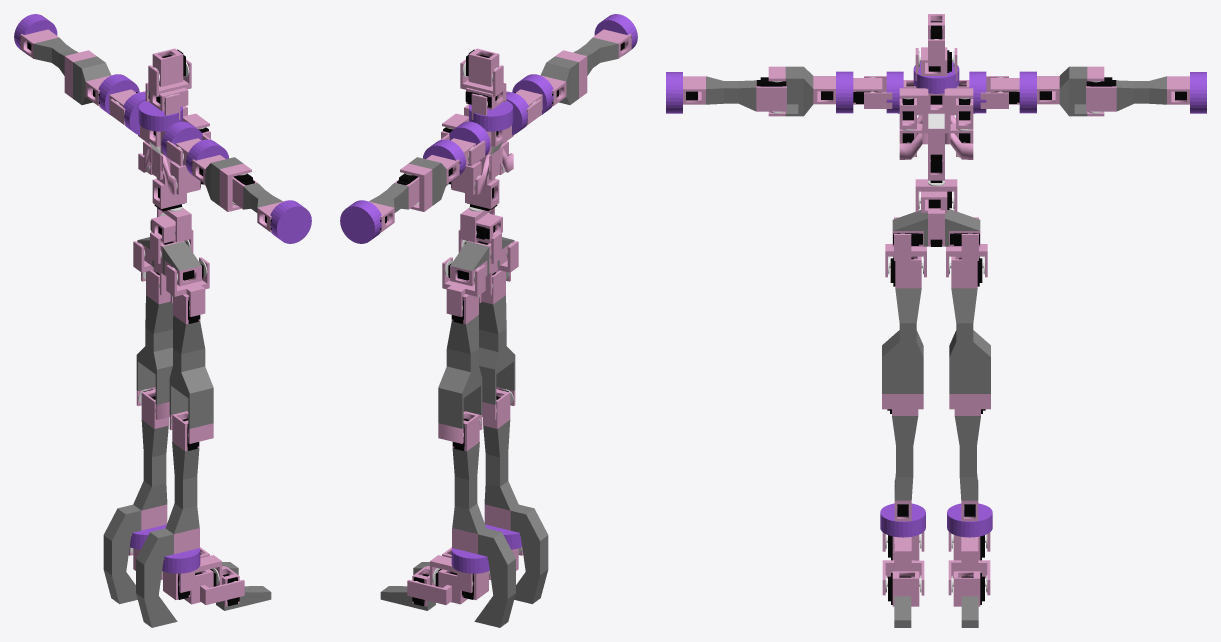
Rendered from Asis3D_3_Vbody.fbx.
3 views of the same model, side by side, from view 1: azimuth 30°, elevation 25°; view 2: azimuth 150°, elevation 25°; view 3: azimuth 270°, elevation 25° (orthographic). The views are drawn at different scales.
Parts seen in each view (by area): view 1: R_Upper_Leg_frame, L_Upper_Leg_frame, R_heel, L_heel, R_Lower_Leg_frame, L_Lower_Leg_frame, R_Wrist_rail, L_Elbow_frame, Neck_roll_servo_box, Hips_frame, Neck_yaw_rail, L_LowerArm (+28 smaller); view 2: L_Upper_Leg_frame, R_Upper_Leg_frame, L_heel, R_heel, L_Lower_Leg_frame, R_Lower_Leg_frame, L_Wrist_rail, R_Elbow_frame, Neck_roll_servo_box, Hips_frame, Neck_yaw_rail, R_LowerArm (+28 smaller); view 3: L_Upper_Leg_frame, R_Upper_Leg_frame, L_Lower_Leg_frame, R_Lower_Leg_frame, Hips_frame, L_LowerArm, R_LowerArm, L_Elbow_frame, R_Elbow_frame, L_Ankle_yaw_rail, R_Ankle_yaw_rail, R_Toe_pitch_servo_box (+8 smaller).
Boxes of the visible parts, x1=… form: R_Upper_Leg_frame: x1=169, y1=315, x2=213, y2=428; L_Upper_Leg_frame: x1=136, y1=295, x2=173, y2=404; R_heel: x1=136, y1=528, x2=177, y2=627; L_heel: x1=103, y1=504, x2=141, y2=604; R_Lower_Leg_frame: x1=165, y1=442, x2=199, y2=534; L_Lower_Leg_frame: x1=133, y1=420, x2=168, y2=510; R_Wrist_rail: x1=270, y1=200, x2=311, y2=243; L_Elbow_frame: x1=73, y1=56, x2=110, y2=104; Neck_roll_servo_box: x1=152, y1=48, x2=183, y2=86; Hips_frame: x1=137, y1=237, x2=201, y2=274; Neck_yaw_rail: x1=138, y1=100, x2=182, y2=131; L_LowerArm: x1=33, y1=37, x2=78, y2=75; L_Upper_Leg_frame: x1=438, y1=315, x2=482, y2=428; R_Upper_Leg_frame: x1=478, y1=295, x2=515, y2=404; L_heel: x1=474, y1=528, x2=515, y2=627; R_heel: x1=510, y1=504, x2=548, y2=604; L_Lower_Leg_frame: x1=452, y1=442, x2=486, y2=534; R_Lower_Leg_frame: x1=483, y1=420, x2=518, y2=510; L_Wrist_rail: x1=340, y1=200, x2=381, y2=243; R_Elbow_frame: x1=541, y1=56, x2=578, y2=104; Neck_roll_servo_box: x1=468, y1=48, x2=499, y2=86; Hips_frame: x1=450, y1=237, x2=514, y2=274; Neck_yaw_rail: x1=469, y1=100, x2=513, y2=131; R_LowerArm: x1=573, y1=37, x2=618, y2=75; L_Upper_Leg_frame: x1=949, y1=288, x2=990, y2=393; R_Upper_Leg_frame: x1=882, y1=288, x2=923, y2=393; L_Lower_Leg_frame: x1=954, y1=416, x2=980, y2=500; R_Lower_Leg_frame: x1=892, y1=416, x2=918, y2=500; Hips_frame: x1=892, y1=209, x2=980, y2=246; L_LowerArm: x1=1116, y1=76, x2=1166, y2=111; R_LowerArm: x1=706, y1=76, x2=756, y2=111; L_Elbow_frame: x1=1059, y1=66, x2=1087, y2=116; R_Elbow_frame: x1=785, y1=66, x2=813, y2=116; L_Ankle_yaw_rail: x1=947, y1=503, x2=992, y2=537; R_Ankle_yaw_rail: x1=880, y1=503, x2=925, y2=537; R_Toe_pitch_servo_box: x1=892, y1=571, x2=919, y2=606.
Bounding box in the file's own units: 94.75 × 26.42 × 110.
